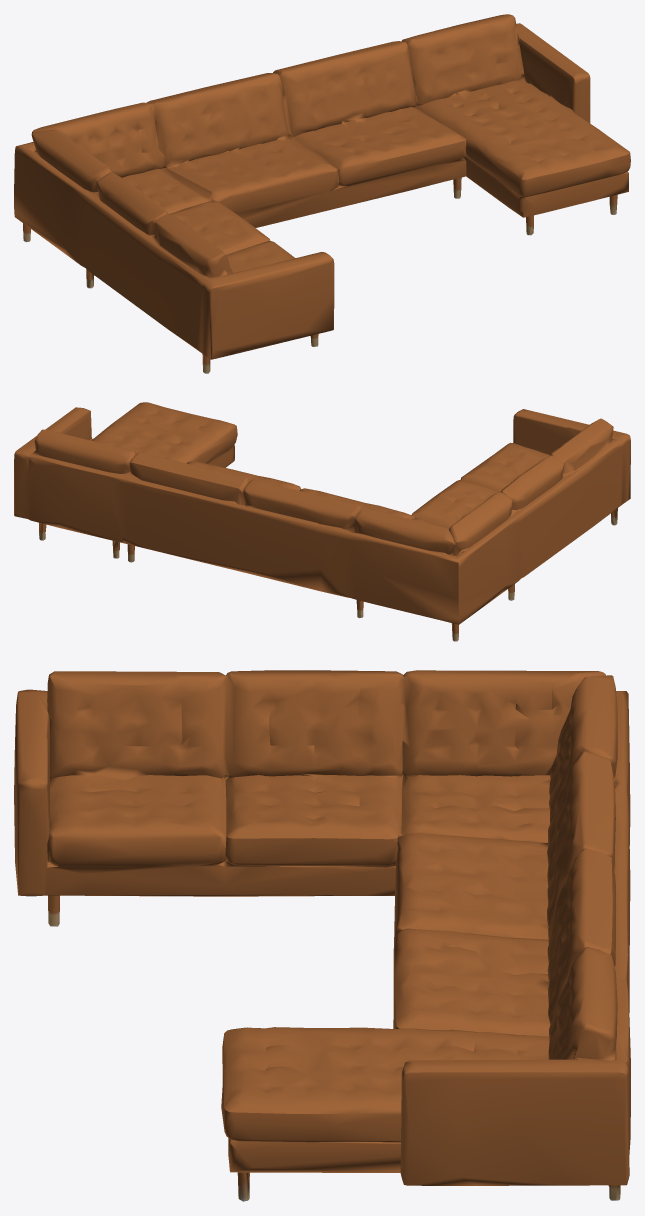
The model's file is 14 - LANDSKRONA Corner sofa, 6-seat - with chaise longueGrannBomstad golden-brownwood.glb.
The picture shows the model from 3 angles, top to bottom: view 1: azimuth 30°, elevation 25°; view 2: azimuth 150°, elevation 25°; view 3: azimuth 270°, elevation 25°; orthographic projection. The views are drawn at different scales.
Visible parts, largest first — view 1: ProcessedMeshNode; view 2: ProcessedMeshNode; view 3: ProcessedMeshNode.
Boxes of the visible parts, x1,y1,x2,y2 form: ProcessedMeshNode: [14, 14, 630, 373]; ProcessedMeshNode: [14, 402, 630, 641]; ProcessedMeshNode: [14, 670, 630, 1201].
Bounding box in the file's own units: 3.56 × 0.7851 × 2.4.
Materials: 1 (1 with a texture image).
